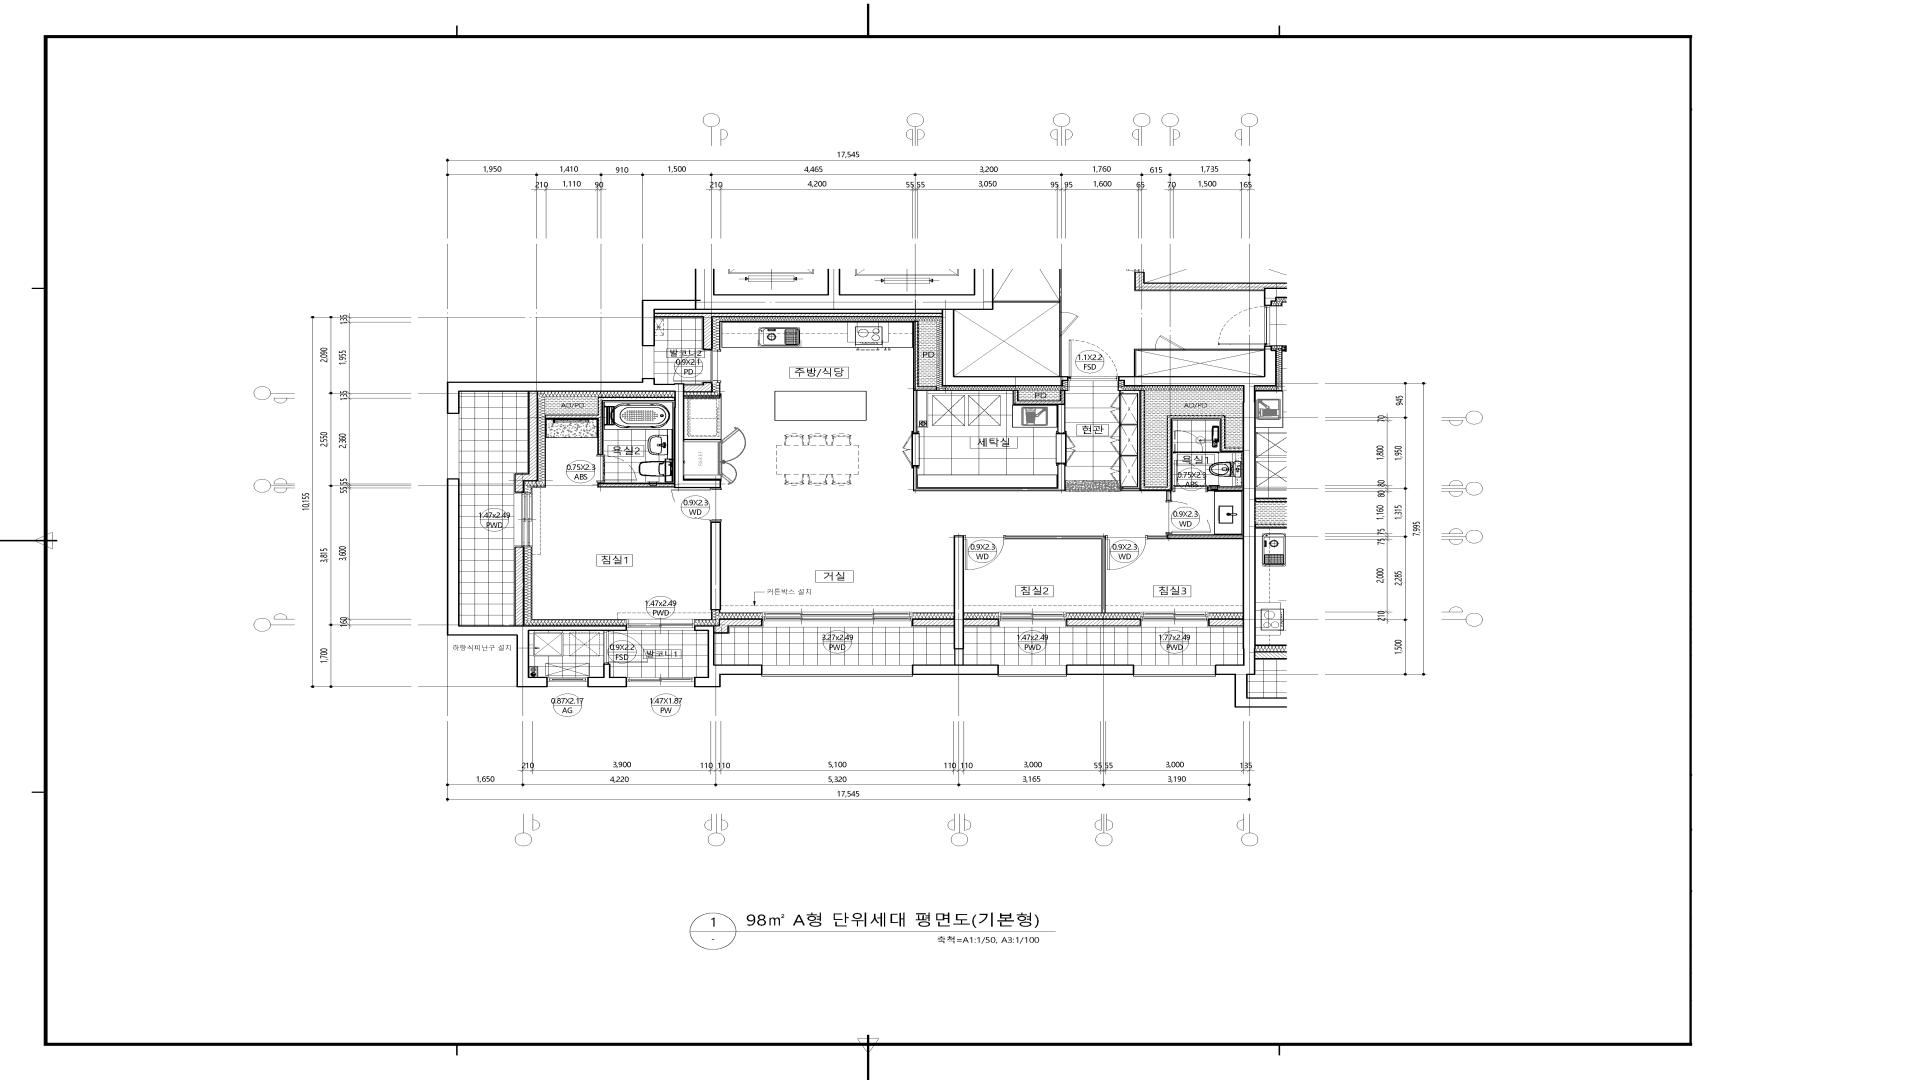door: (1217, 305, 1270, 347), (1068, 339, 1118, 381), (671, 488, 723, 522), (674, 349, 721, 382), (1166, 501, 1211, 534), (1105, 535, 1147, 570), (604, 630, 647, 663), (964, 535, 1005, 570), (596, 455, 637, 483), (1172, 460, 1207, 492), (1174, 430, 1203, 454), (901, 433, 919, 467), (1056, 433, 1076, 464), (1059, 311, 1079, 336), (1155, 335, 1184, 351)
wall: (1118, 345, 1276, 675), (642, 294, 1068, 386), (447, 479, 626, 687), (447, 378, 721, 488), (655, 313, 942, 349), (1139, 390, 1242, 491), (1005, 535, 1105, 613), (545, 397, 674, 455), (694, 625, 762, 687), (913, 464, 1065, 492), (1134, 272, 1287, 291), (993, 269, 1062, 311), (514, 392, 538, 493), (913, 320, 936, 390), (953, 535, 964, 665), (711, 522, 721, 611), (588, 663, 626, 687), (913, 665, 998, 675), (514, 547, 525, 625), (1013, 390, 1065, 405), (1067, 665, 1134, 675), (715, 618, 762, 633), (1134, 348, 1155, 376), (1067, 618, 1141, 626), (1263, 287, 1287, 306), (597, 483, 674, 488), (1166, 534, 1242, 539), (913, 618, 953, 626), (684, 382, 712, 393), (1208, 618, 1242, 626), (964, 618, 998, 626), (913, 390, 918, 433), (1058, 405, 1065, 433), (1184, 348, 1265, 351), (1207, 487, 1242, 491), (1059, 336, 1062, 376), (1147, 535, 1166, 539), (1166, 491, 1171, 501), (1121, 488, 1139, 491), (1203, 451, 1220, 454), (1172, 451, 1175, 454)
window: (762, 612, 913, 628), (761, 665, 913, 676), (998, 612, 1067, 628), (1141, 612, 1208, 628), (514, 493, 533, 547), (1134, 665, 1216, 676), (626, 618, 695, 630), (998, 665, 1067, 676), (447, 414, 459, 479), (626, 678, 695, 687), (642, 345, 654, 378), (547, 678, 588, 687)
